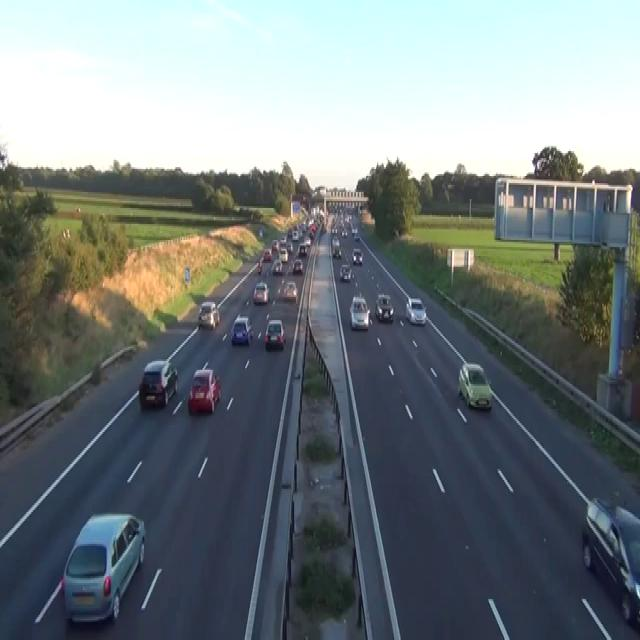Car: (62, 512, 145, 624), (582, 496, 639, 624), (138, 359, 178, 407), (458, 363, 492, 409), (187, 368, 221, 414), (349, 295, 371, 329), (230, 315, 253, 345), (198, 300, 220, 329), (264, 318, 285, 348), (405, 297, 426, 325), (374, 293, 394, 322), (253, 281, 269, 304), (283, 281, 297, 300), (339, 263, 352, 281), (270, 258, 283, 274), (331, 238, 341, 258), (352, 247, 363, 265), (292, 258, 303, 274), (278, 246, 288, 262), (213, 306, 220, 325), (263, 247, 272, 261), (62, 228, 70, 240), (298, 244, 306, 256), (271, 238, 278, 251), (257, 258, 262, 274), (351, 226, 358, 236), (286, 242, 293, 252), (308, 226, 315, 236), (292, 229, 298, 240), (304, 237, 311, 246), (331, 226, 338, 234), (280, 237, 286, 246), (354, 234, 360, 242), (341, 228, 347, 236), (75, 206, 81, 212), (322, 224, 326, 233), (287, 230, 291, 238), (259, 228, 262, 236)
Truck: (290, 199, 300, 217)
